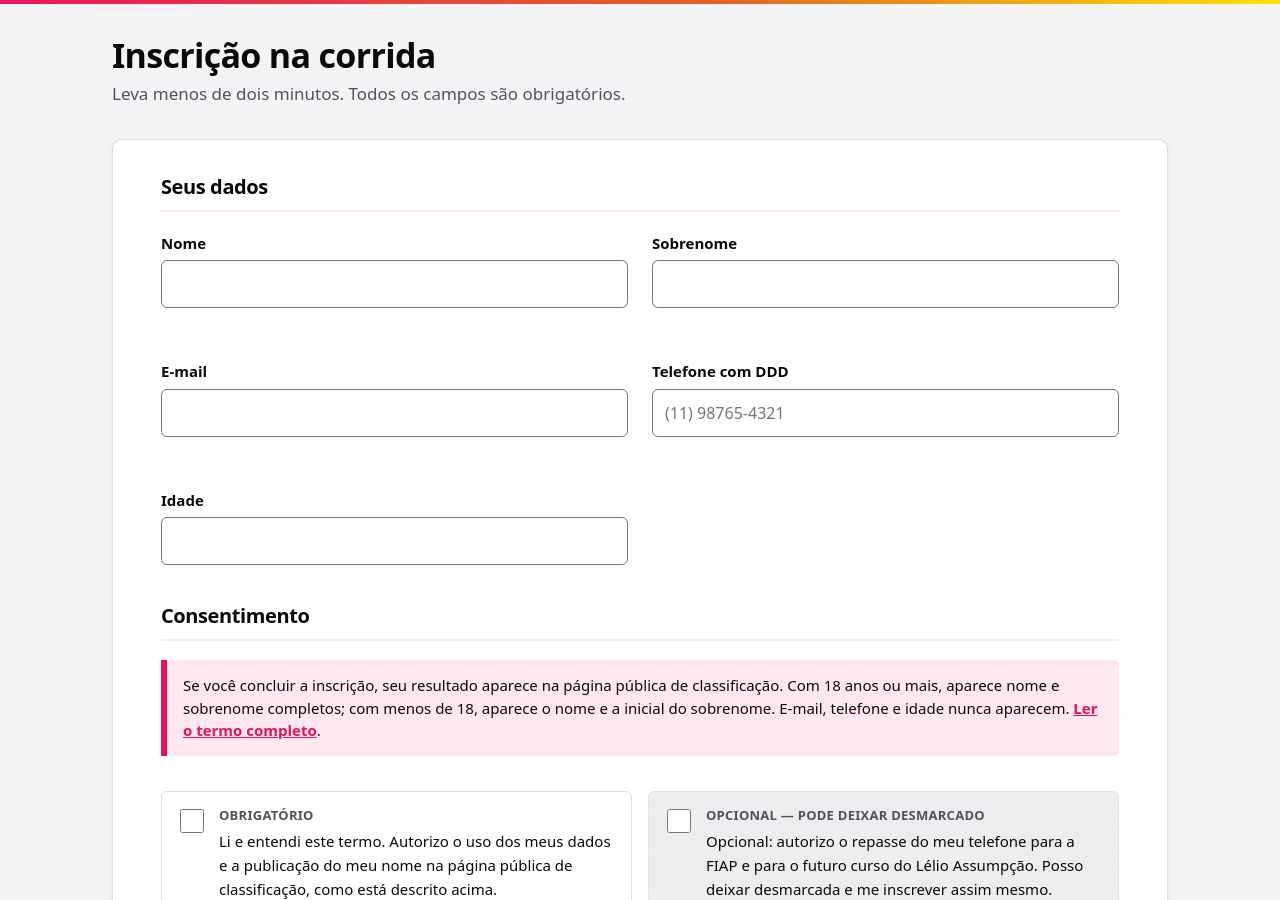
Test: RF-08 e D-23 — os dois consentimentos não são a mesma coisa › D-23 — com a caixa de repasse desmarcada, o cadastro conclui
Type "Marina" into the field labelled "Nome" at x=394, y=284, box [161, 260, 628, 308]
Type "Costa" into the field labelled "Sobrenome" at x=886, y=284, box [652, 260, 1119, 308]
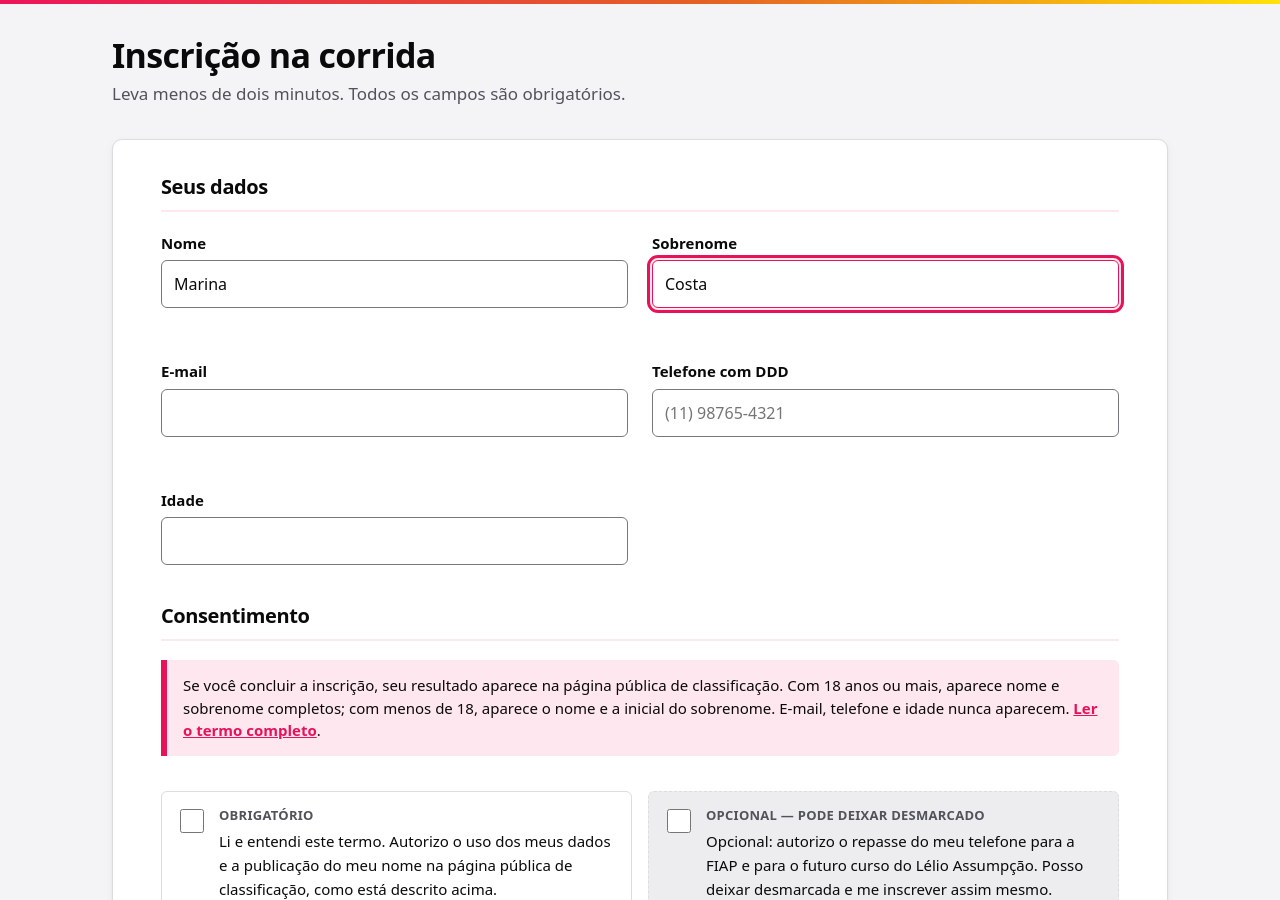
Type "marina@exemplo.com" into the field labelled "E-mail" at x=394, y=413, box [161, 389, 628, 437]
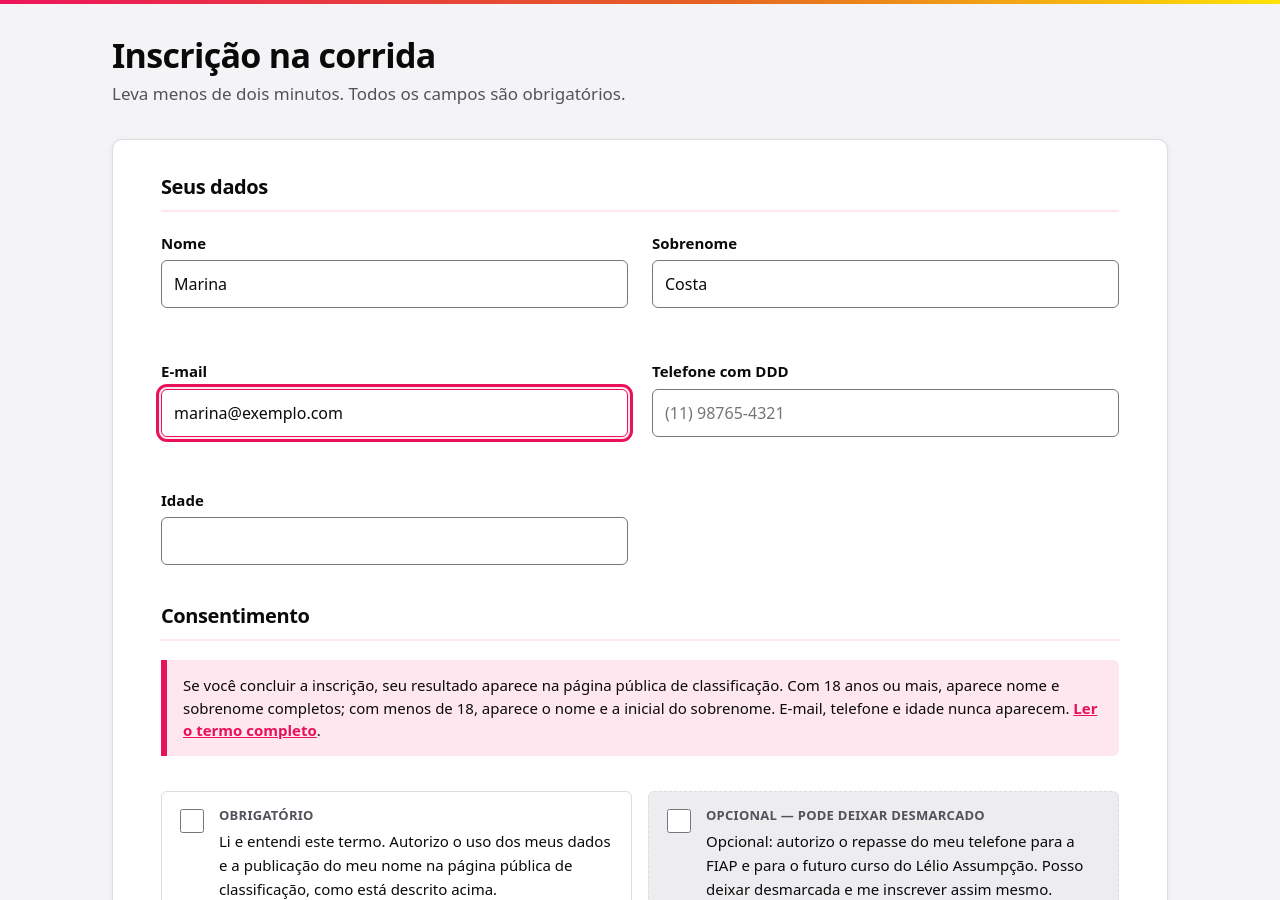
Type "11987654321" into the field labelled "Telefone com DDD" at x=886, y=413, box [652, 389, 1119, 437]
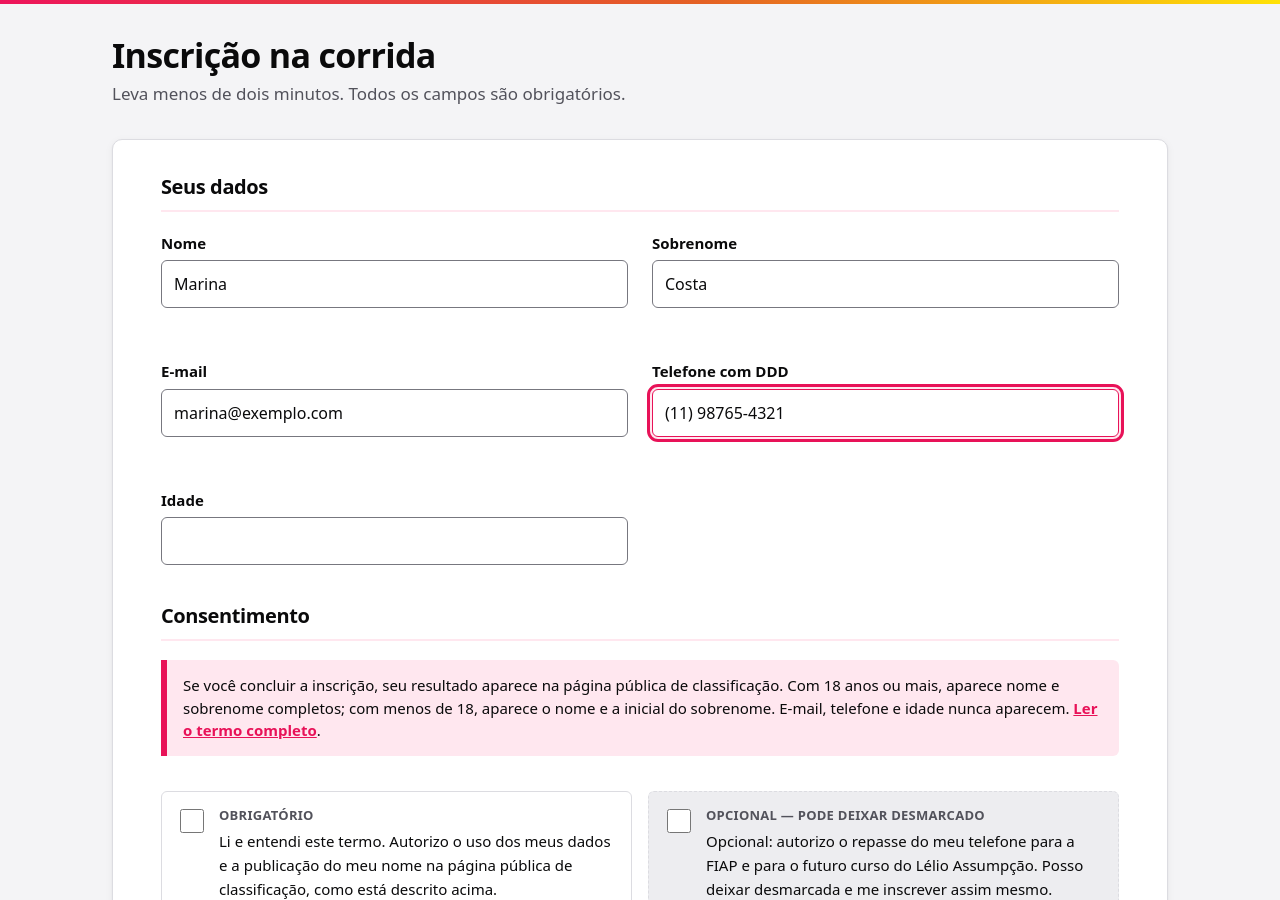
Type "30" into the field labelled "Idade" at x=394, y=541, box [161, 517, 628, 565]
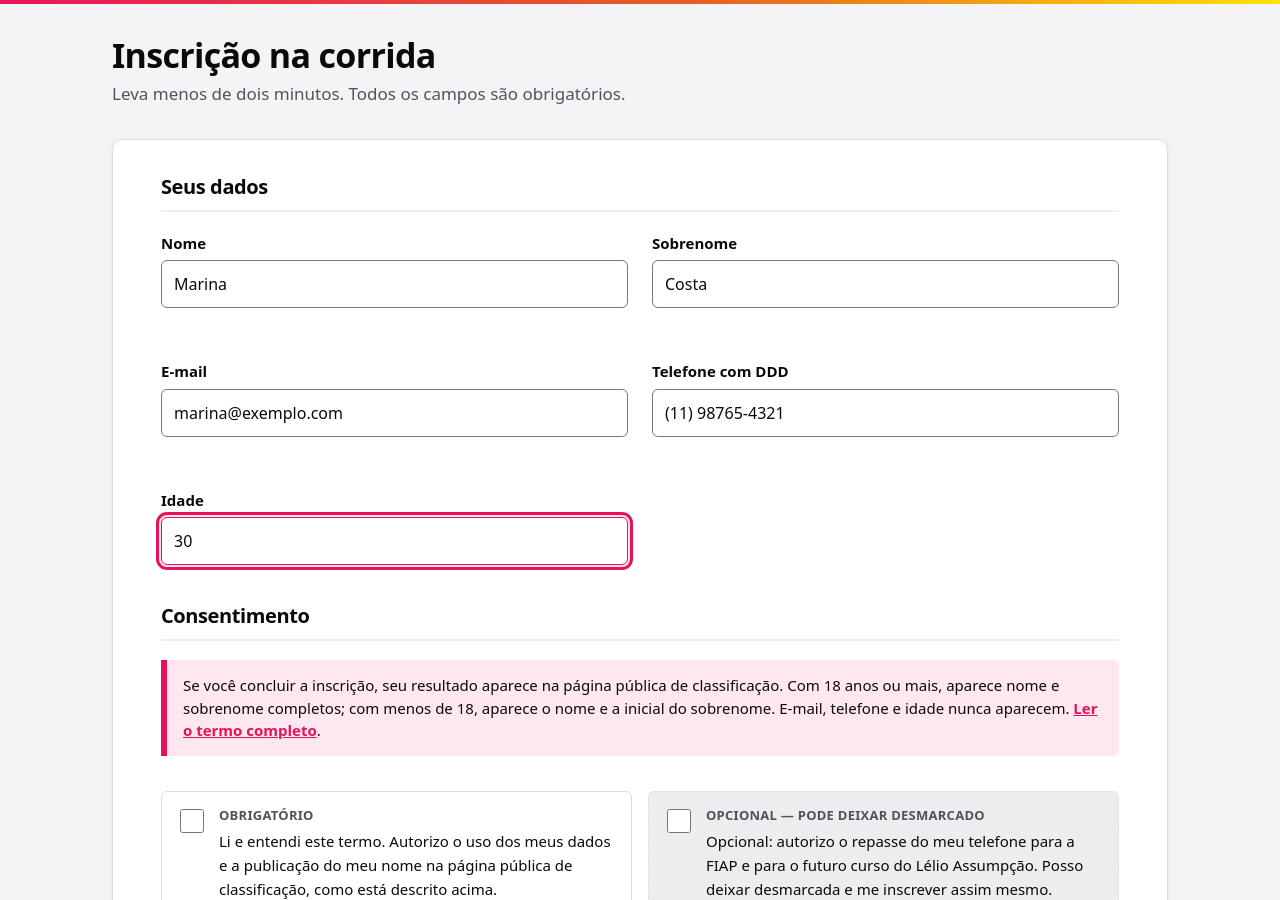
Click the checkbox labelled "Li e entendi este termo" at x=192, y=821, box [180, 809, 204, 833]
(page scrolled)
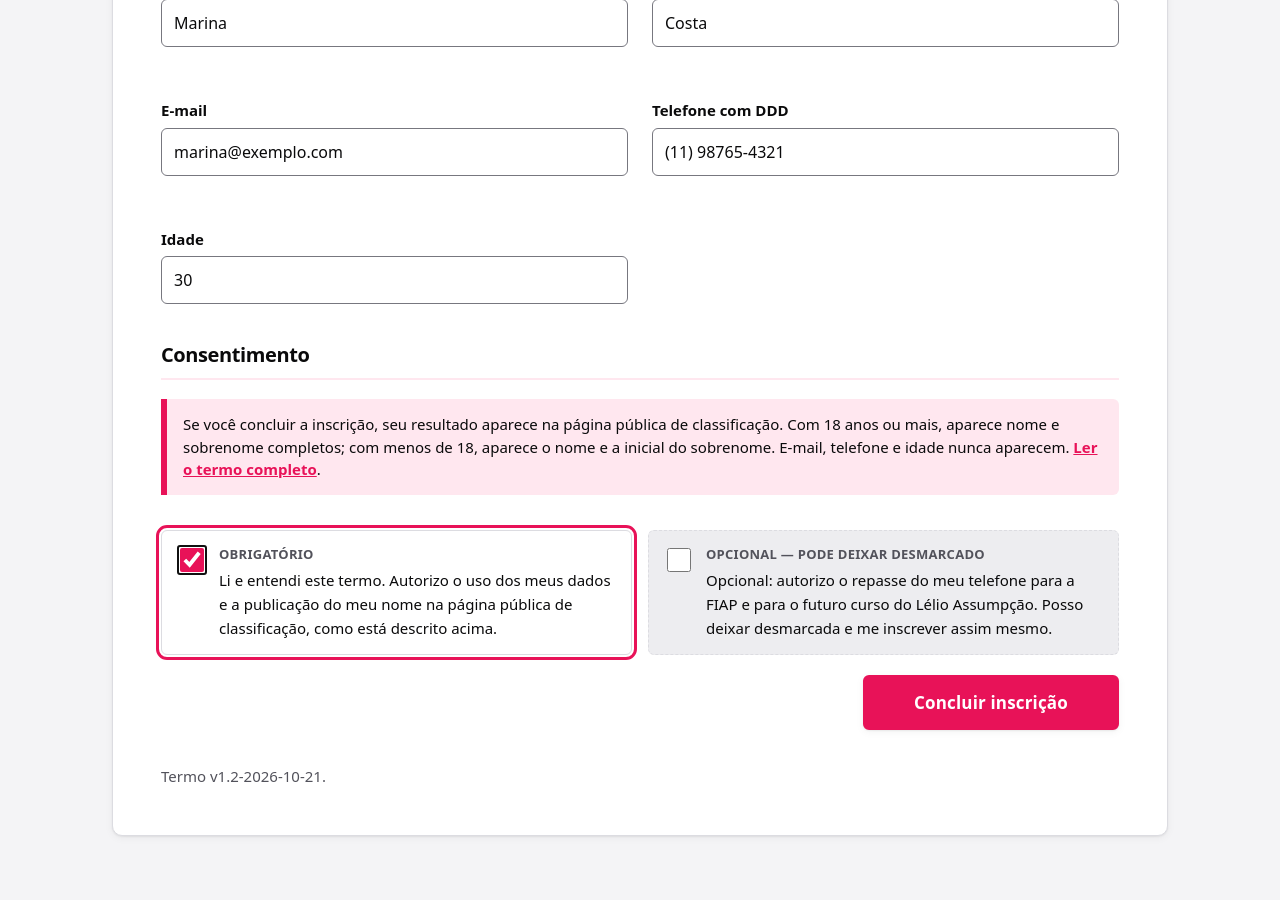
Click the button "Concluir inscrição" at x=991, y=703, box [863, 675, 1119, 730]
(page scrolled)
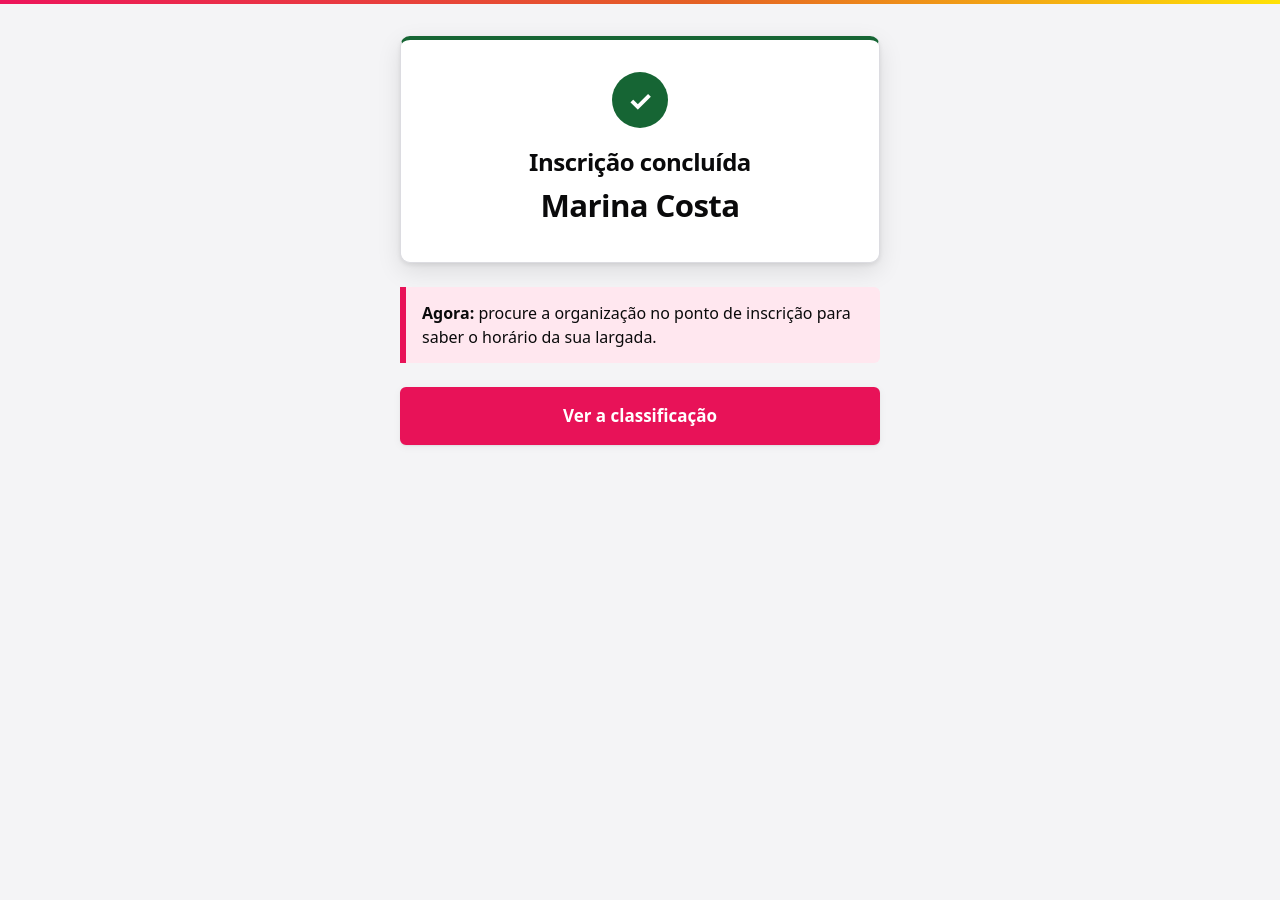
Result: the heading "Inscrição concluída" is shown at [529, 145, 751, 178]
